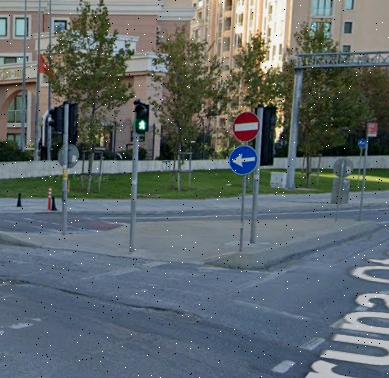turnleft: (227, 144, 261, 179)
